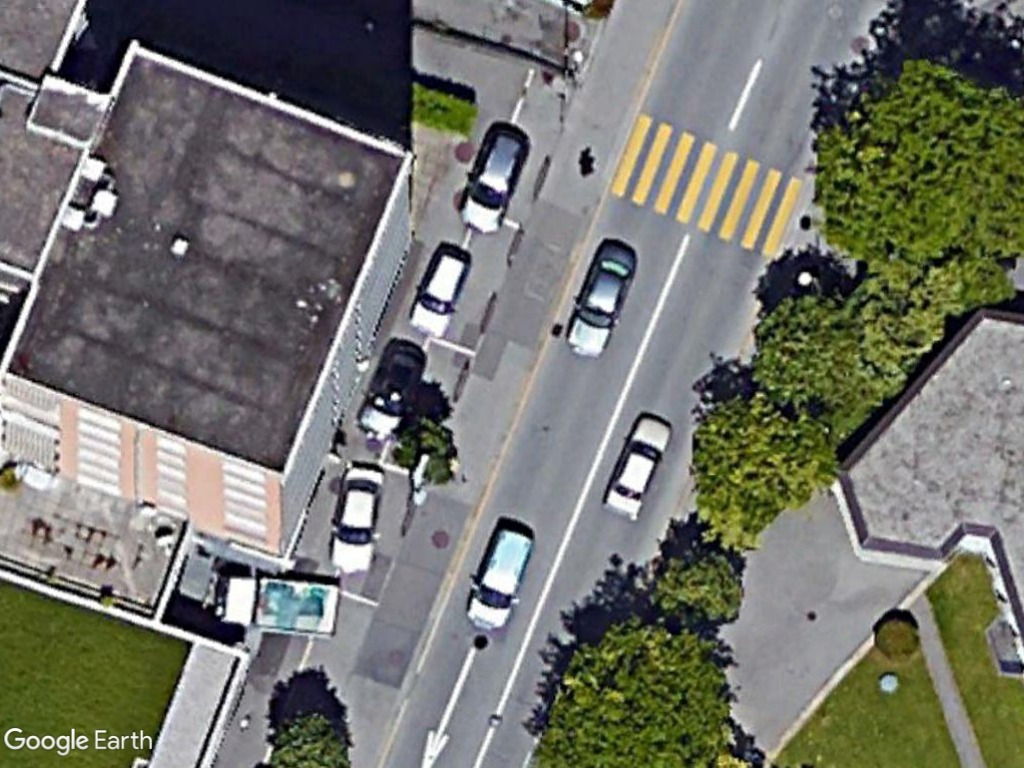car: (560, 237, 640, 361), (324, 460, 393, 580), (603, 410, 676, 523), (456, 124, 529, 235), (404, 244, 473, 343)
van: (460, 519, 533, 634)
